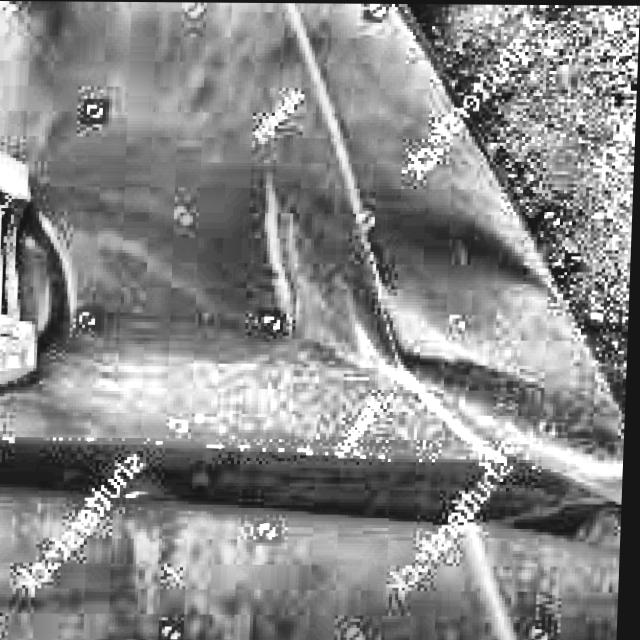door_dent: (49, 161, 634, 475)
